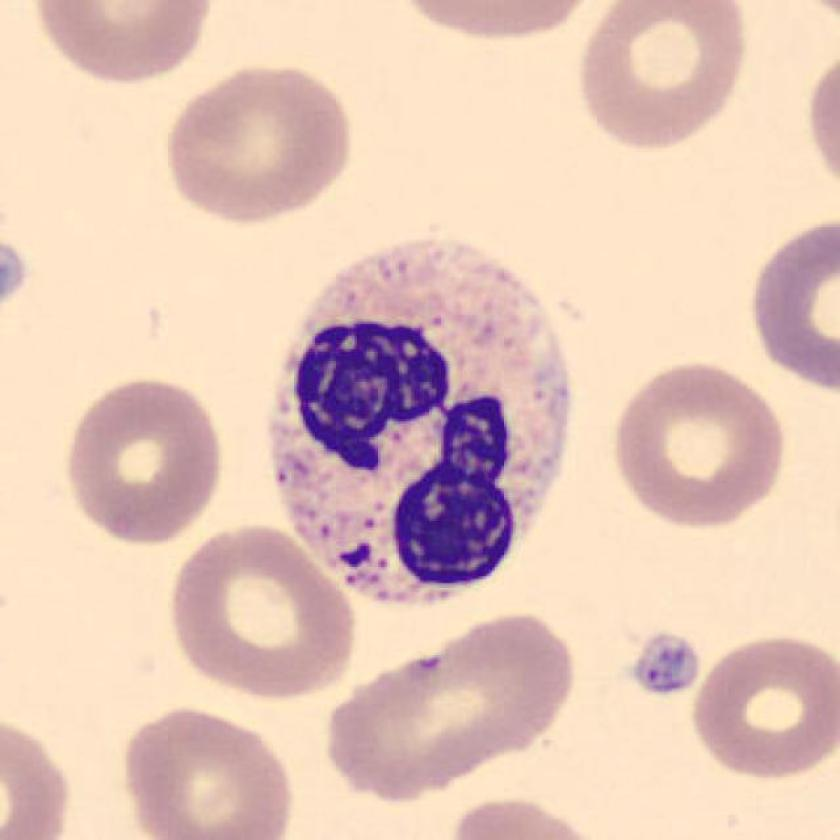neutrophil: (269, 241, 568, 605)
